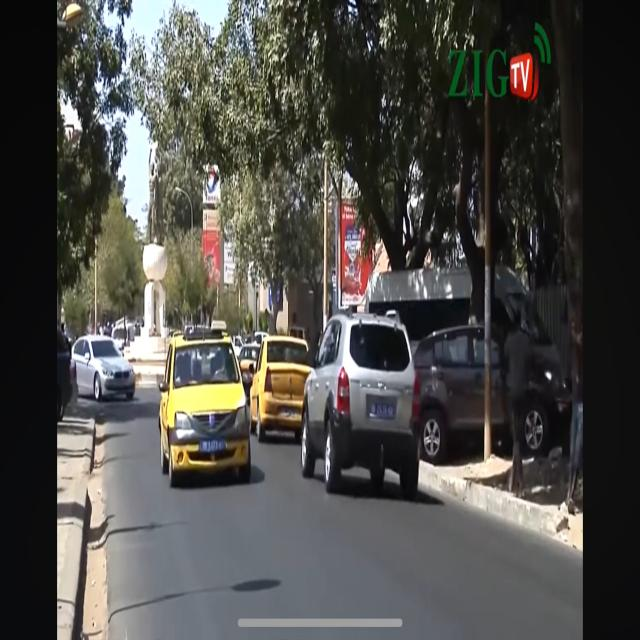fourgon: (367, 269, 565, 394)
particulier: (410, 322, 572, 465), (302, 310, 423, 492), (73, 333, 137, 403)
taxi: (158, 329, 253, 486), (251, 335, 316, 444), (505, 308, 536, 499)
